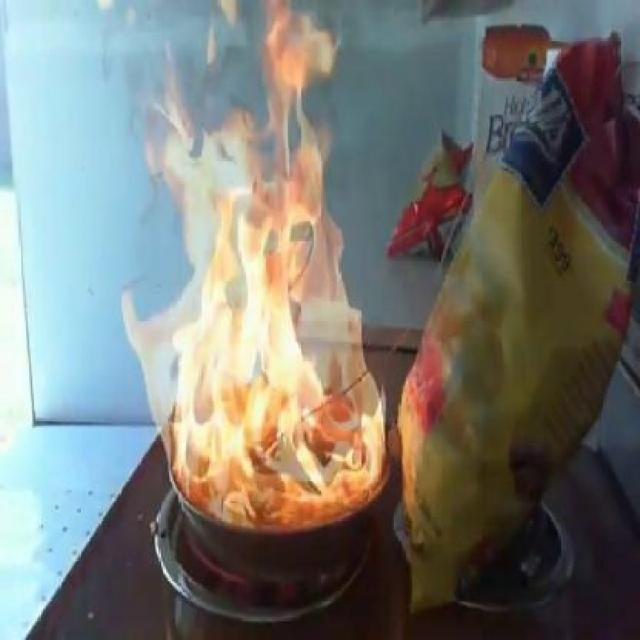fire: (112, 6, 390, 512)
